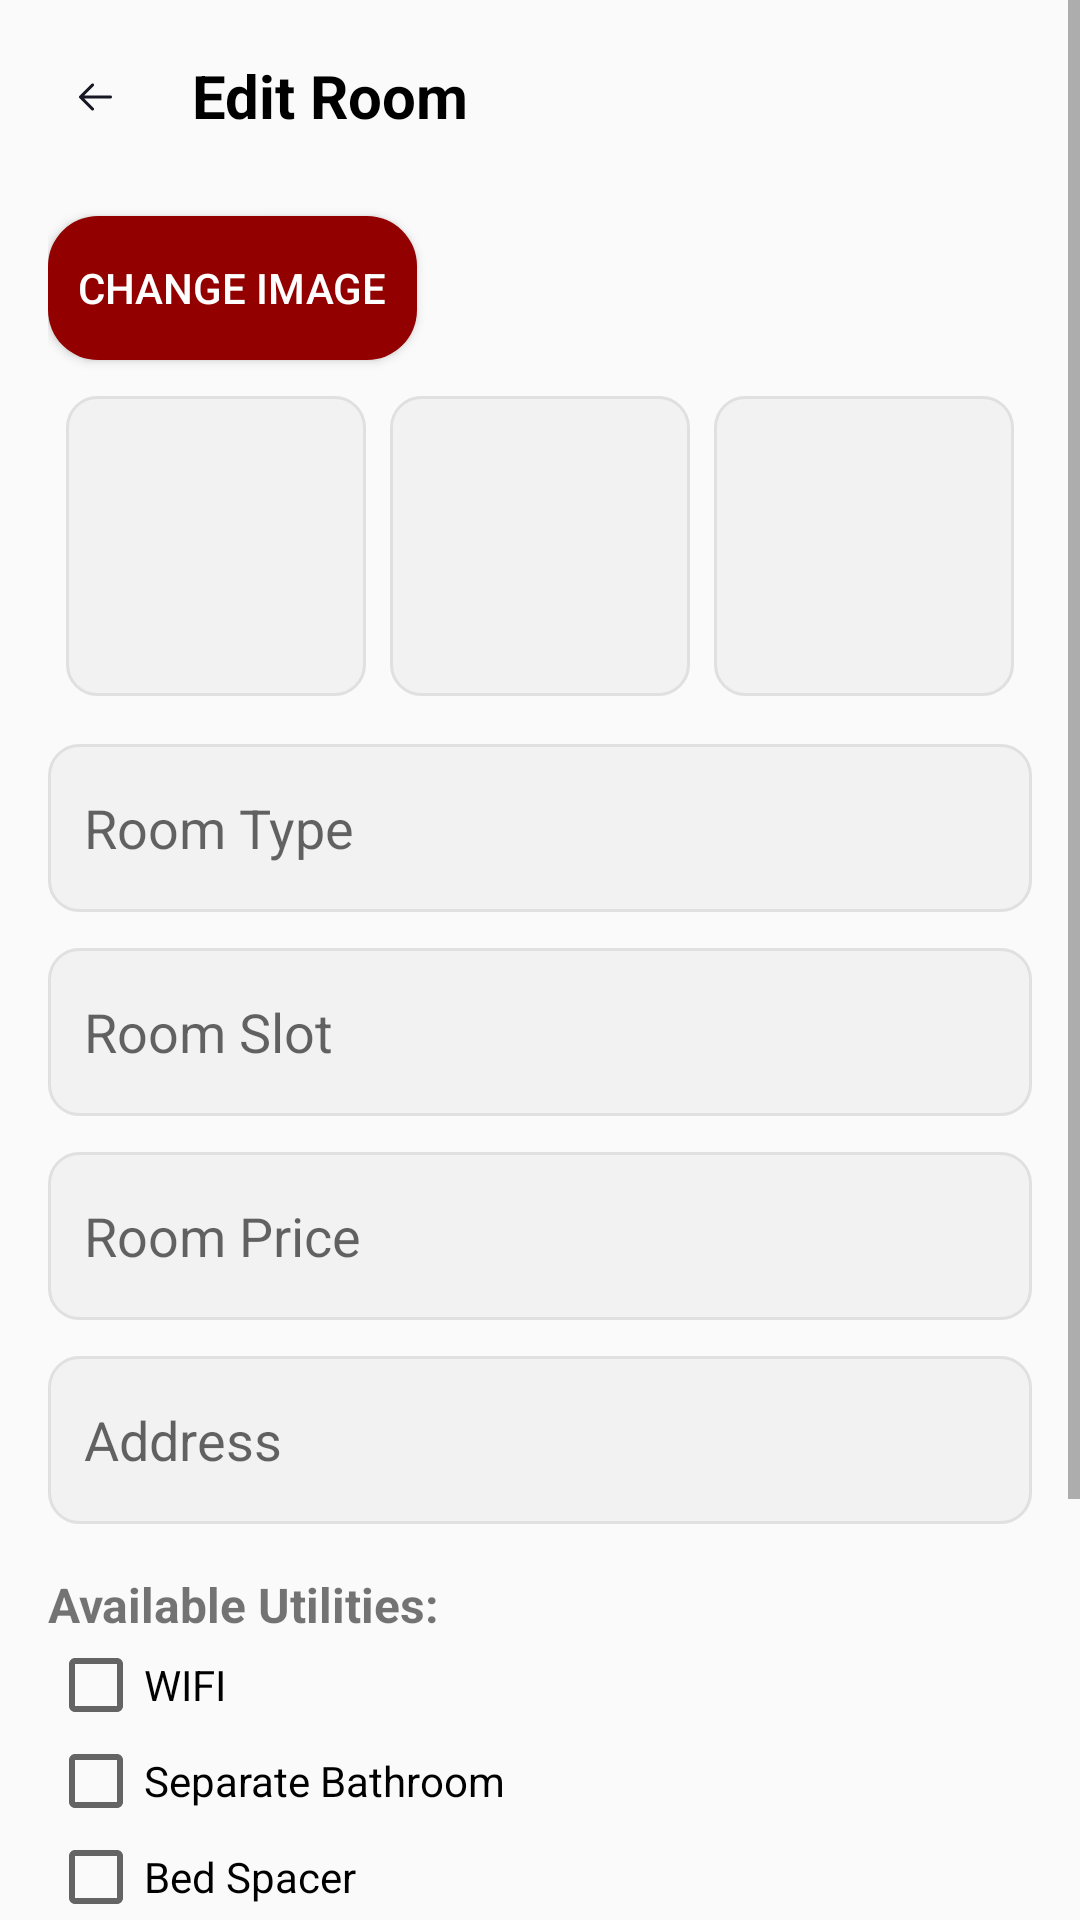

Where icons sit on this 1080x1920 app screen, as (x1, y1, x2, y2):
Back: (79, 83, 112, 111)
